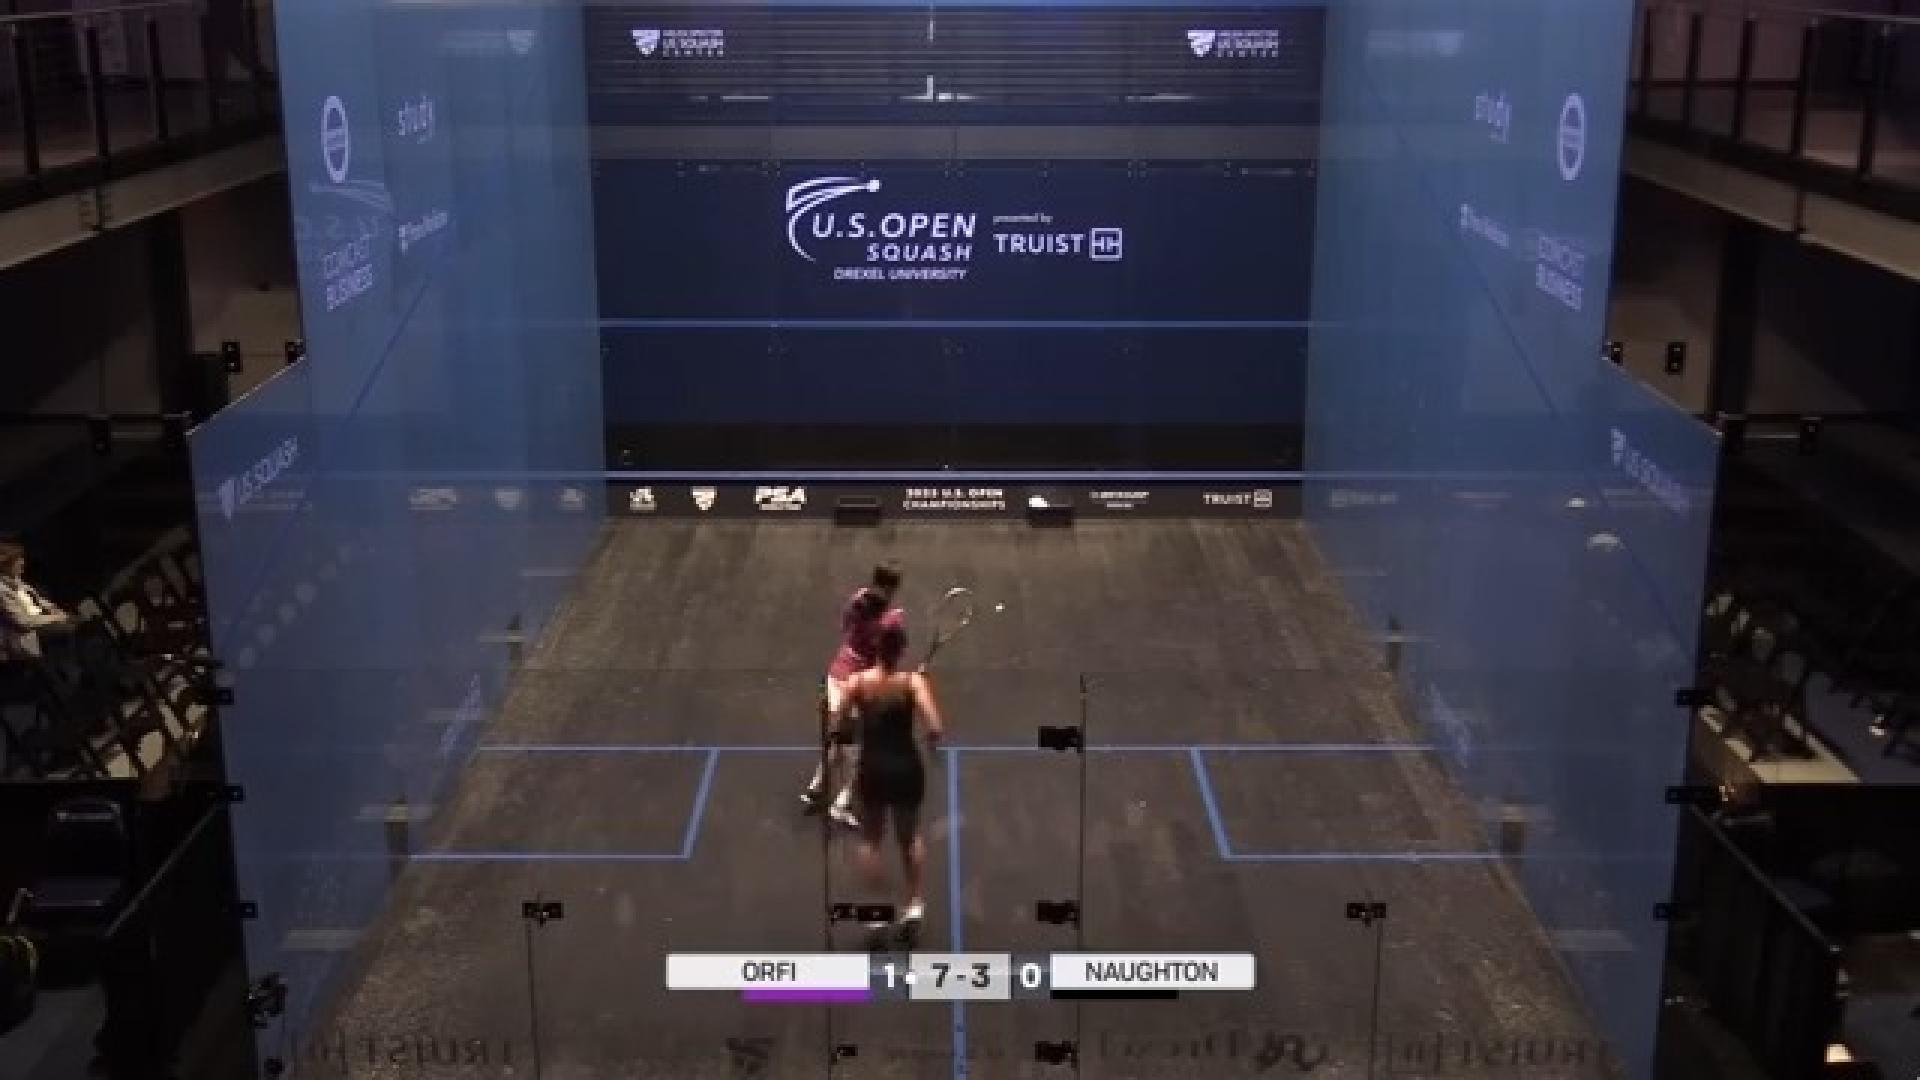Squash-Ball: (986, 591, 1014, 622)
